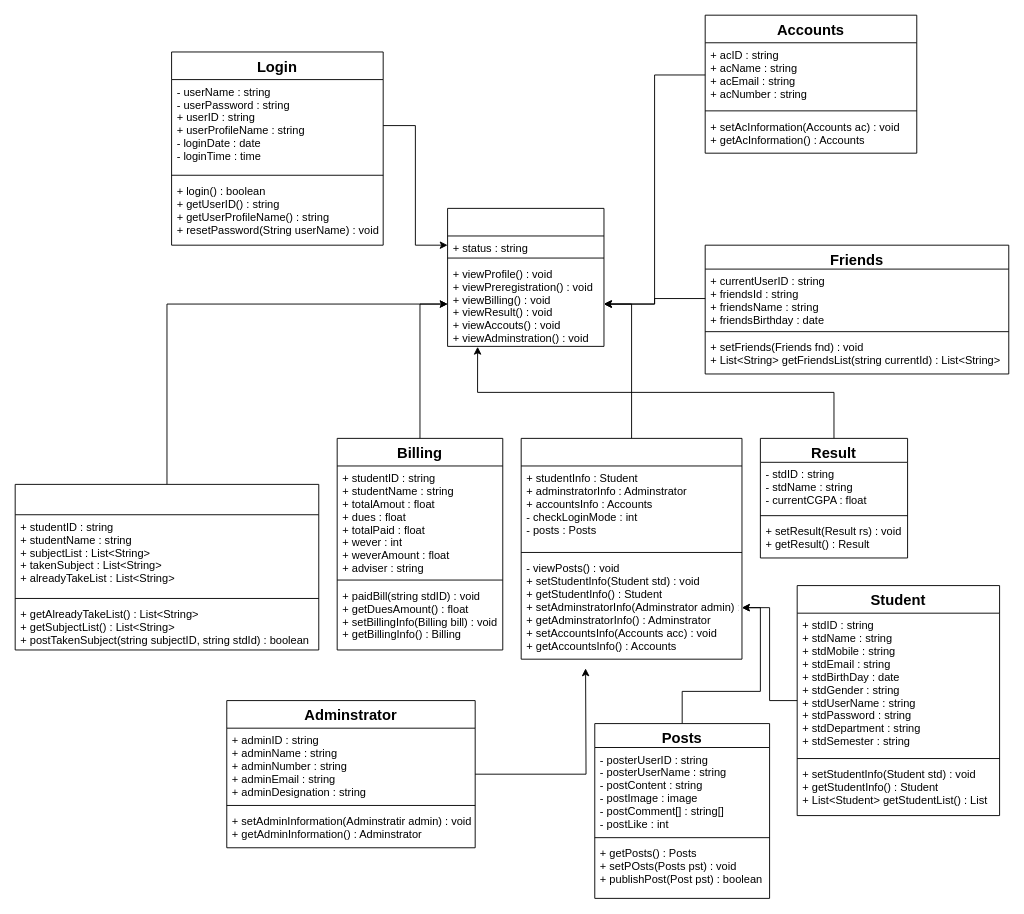
Some shapes in this 1024 by 914 pixel diagram are drawn without their labels. The box of each missing label's shape, as (x1, y1, x2, y2) in pixels:
Deshboard: (447, 207, 604, 346)
Preregistration: (14, 483, 319, 650)
Profile: (520, 437, 742, 659)
